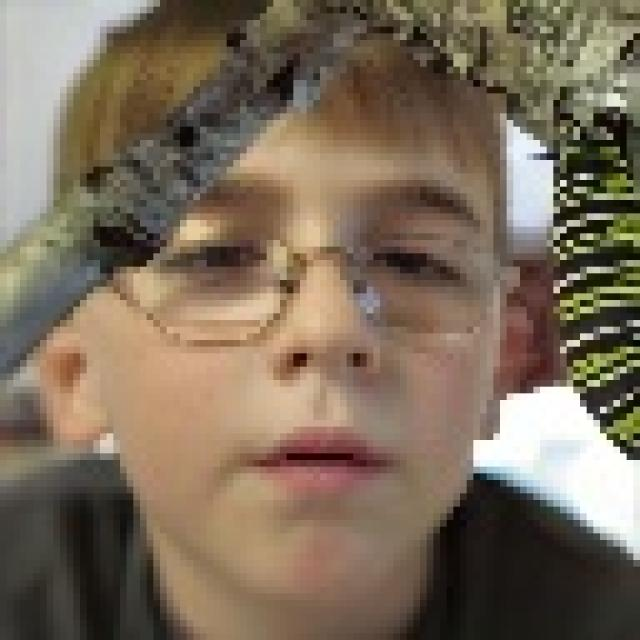sad: (63, 14, 537, 609)
